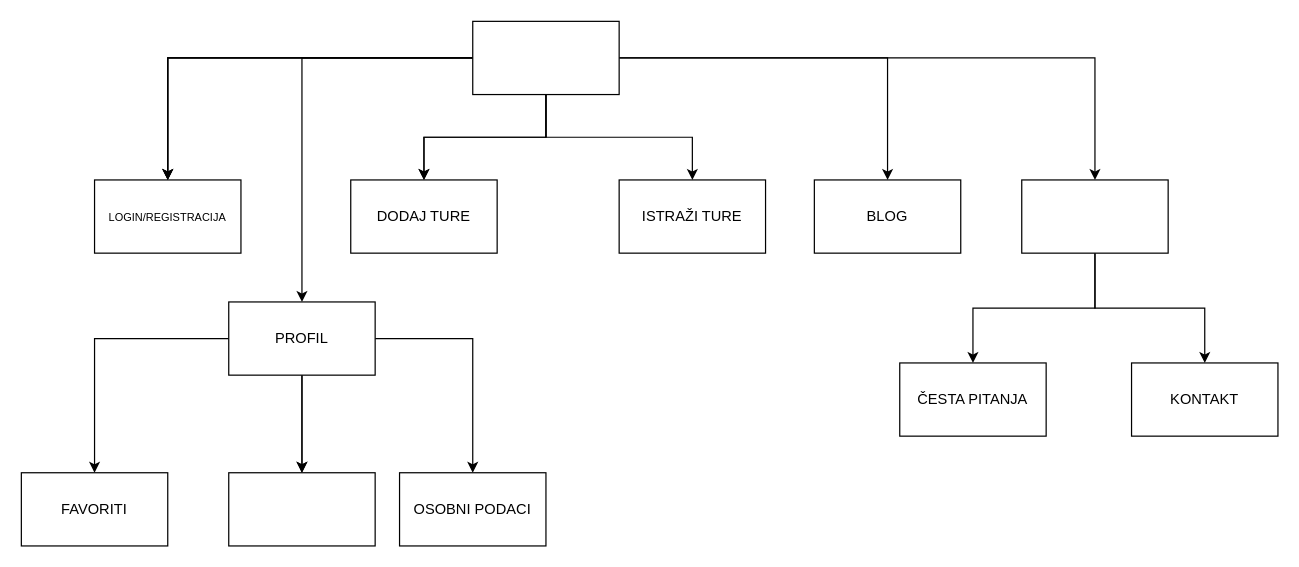
Some shapes in this 1299 by 567 pixel diagram are drawn without their labels. Each missing label, with the box of its shape:
DOSADAŠNJE TURE: (228, 472, 375, 546)
NASLOVNA STRANICA: (472, 20, 619, 95)
POMOĆ: (1021, 179, 1168, 253)
